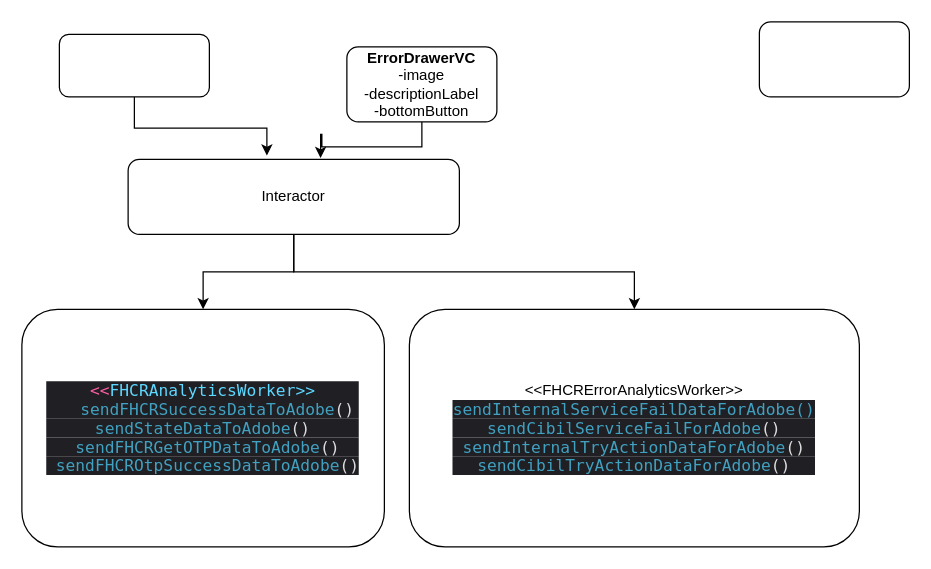
Some shapes in this 931 by 569 pixel diagram are drawn without their labels. The centre of each missing label's shape, as x and y in pixels:
enum FCRErrorTypes: point 833,59
FHCRReportVC: point 133,65
